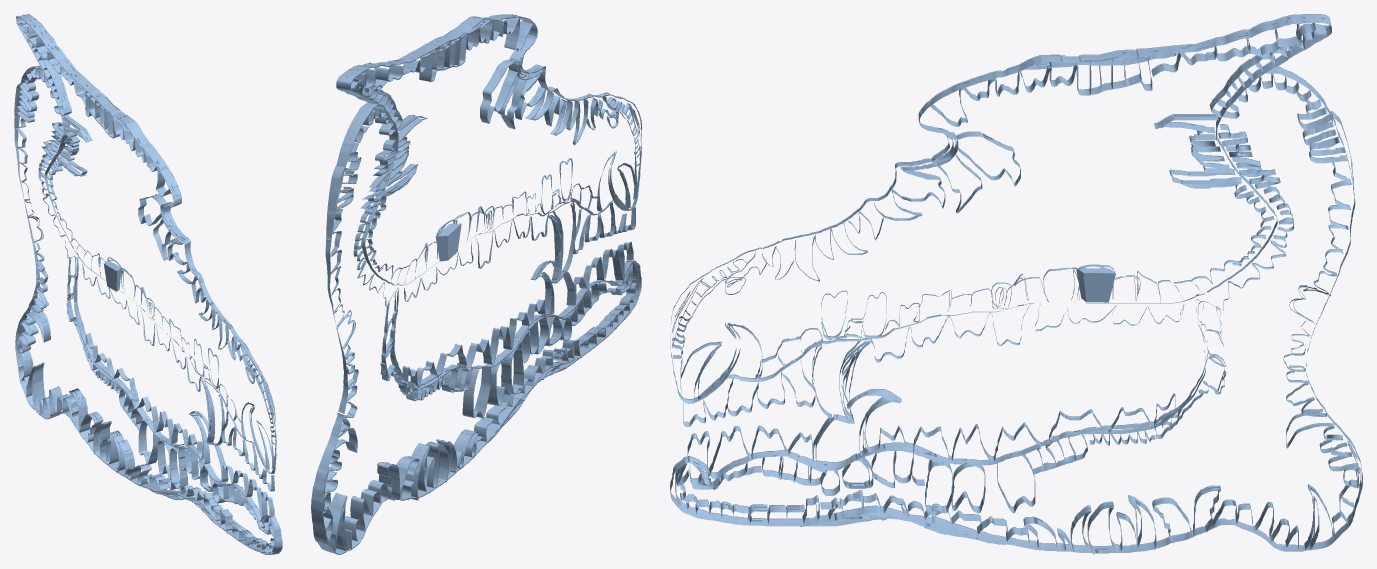
The model's file is tlg-dino-chrome.glb.
The picture shows the model from 3 angles, left to right: view 1: azimuth 30°, elevation 25°; view 2: azimuth 150°, elevation 25°; view 3: azimuth 270°, elevation 25°; orthographic projection. The views are drawn at different scales.
Visible parts, largest first — view 1: Chrome_Dino; view 2: Chrome_Dino; view 3: Chrome_Dino.
Boxes of the visible parts, x1,y1,x2,y2 form: Chrome_Dino: (14, 14, 282, 554); Chrome_Dino: (311, 14, 641, 554); Chrome_Dino: (670, 14, 1362, 554).
Size of the model in its own units: 0.0574 by 0.9303 by 1.11.
